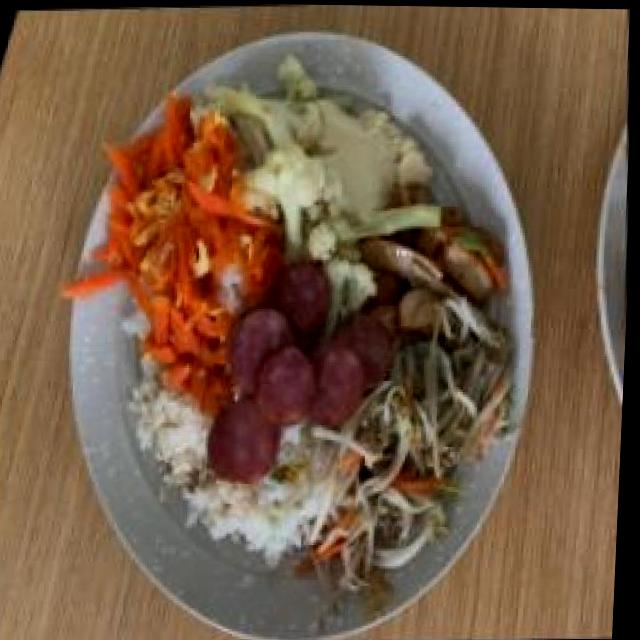carrot_eggs: (104, 109, 256, 324)
chinese_sausage: (203, 258, 399, 485)
mung_bean_sprouts: (337, 296, 525, 566)
rice: (194, 430, 338, 555)
